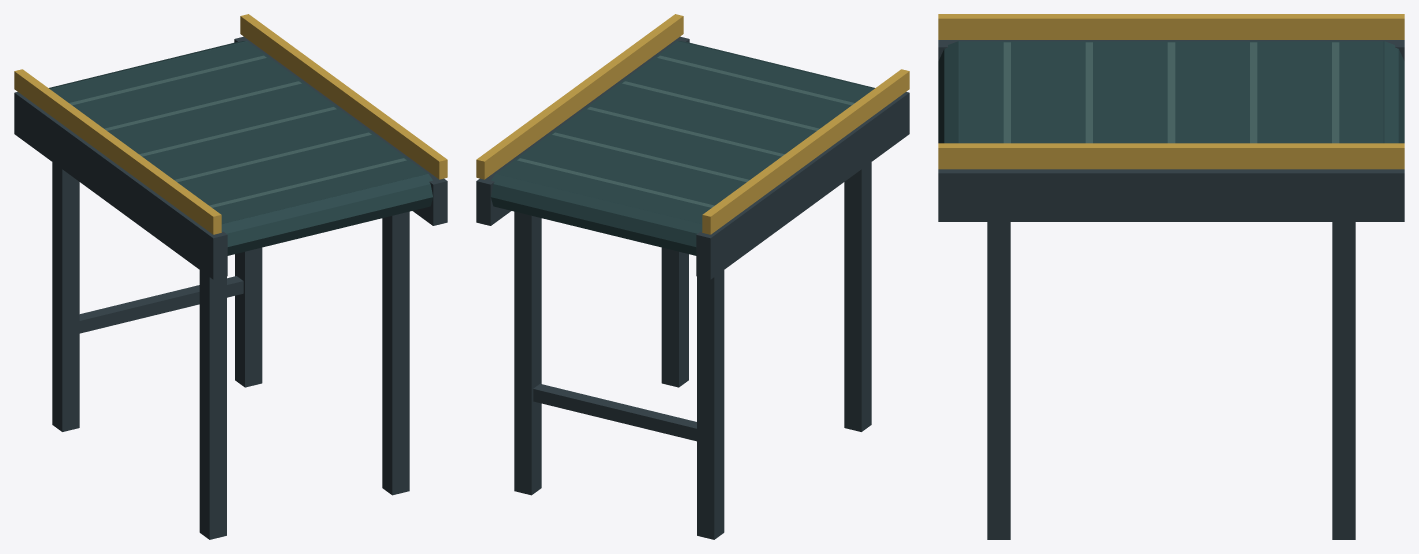
The model's file is conveyor-low.glb.
3 renders of one model, left to right at view 1: azimuth 30°, elevation 25°; view 2: azimuth 150°, elevation 25°; view 3: azimuth 270°, elevation 25°, orthographic. The views are drawn at different scales.
Parts seen in each view (by area): view 1: conveyor-low__material_00, conveyor-low__material_02, conveyor-low__material_03, conveyor-low__material_01; view 2: conveyor-low__material_02, conveyor-low__material_00, conveyor-low__material_03, conveyor-low__material_01; view 3: conveyor-low__material_00, conveyor-low__material_02, conveyor-low__material_03, conveyor-low__material_01.
Boxes of the visible parts, box(x1,y1,x2,y2) form: conveyor-low__material_00: box(49, 41, 432, 255); conveyor-low__material_02: box(14, 36, 447, 539); conveyor-low__material_03: box(14, 14, 447, 234); conveyor-low__material_01: box(69, 55, 406, 207); conveyor-low__material_02: box(476, 36, 909, 539); conveyor-low__material_00: box(491, 41, 874, 255); conveyor-low__material_03: box(476, 14, 909, 234); conveyor-low__material_01: box(517, 55, 854, 207); conveyor-low__material_00: box(938, 41, 1404, 143); conveyor-low__material_02: box(938, 40, 1404, 539); conveyor-low__material_03: box(938, 14, 1404, 169); conveyor-low__material_01: box(1003, 42, 1339, 143).
Size of the model in its own units: 0.68 by 0.95 by 1.
